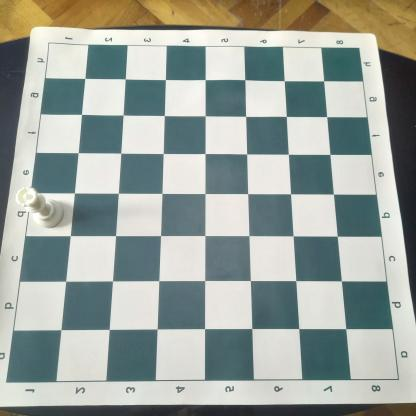white-queen: (14, 186, 65, 230)
